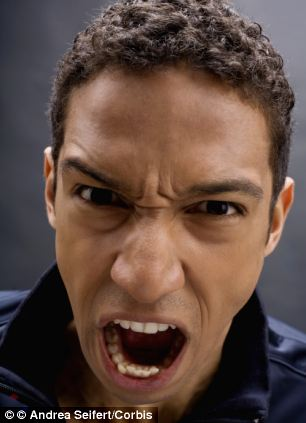angry: (52, 134, 271, 407)
